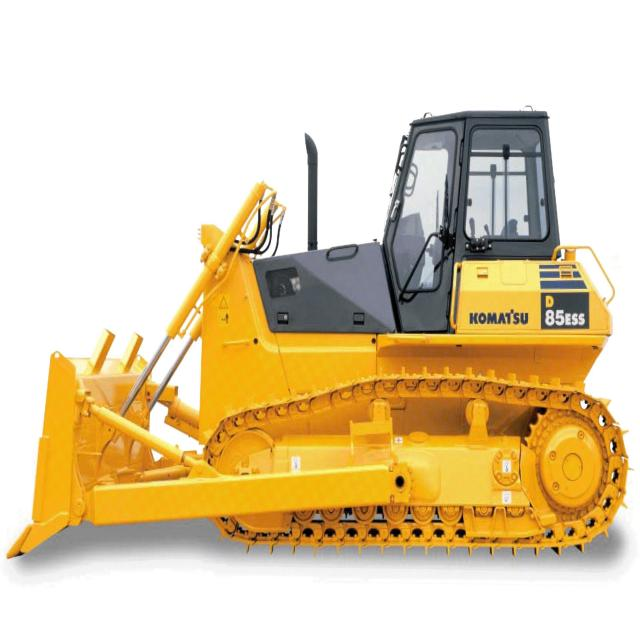Bulldozer: (21, 93, 638, 593)
